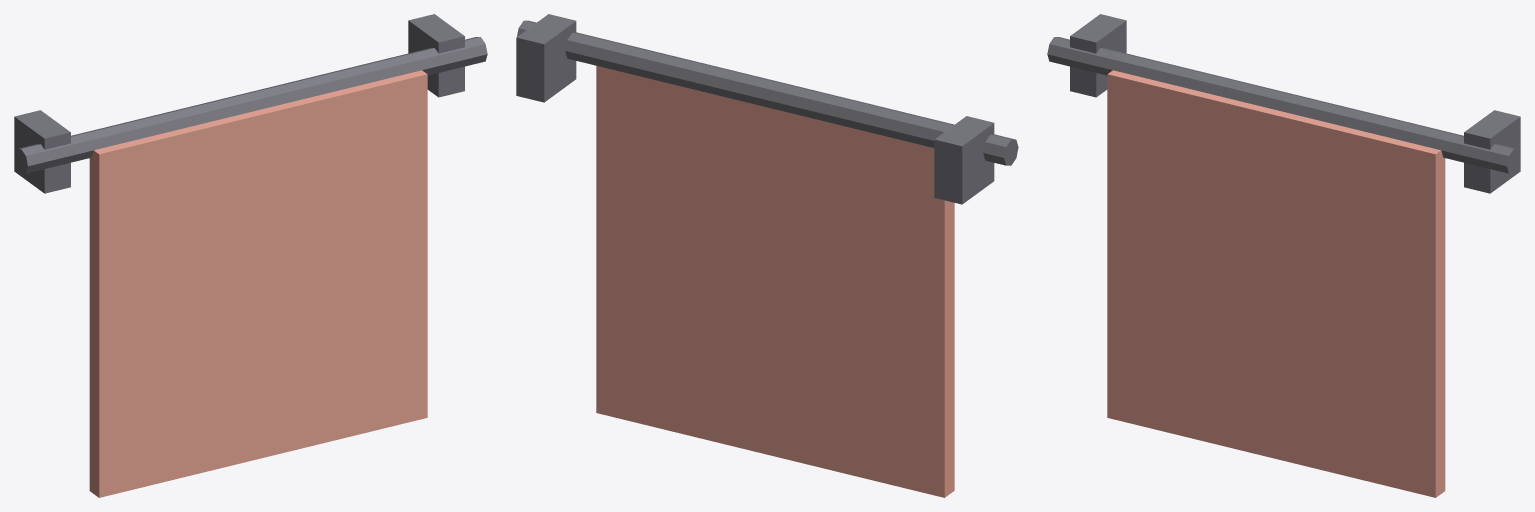
Rendered from cozy-home-interiors-towel-rail-c664907c.glb.
3 views of the same model, side by side, from view 1: azimuth 30°, elevation 25°; view 2: azimuth 150°, elevation 25°; view 3: azimuth 330°, elevation 25° (orthographic). The views are drawn at different scales.
Parts seen in each view (by area): view 1: towel-rail; view 2: towel-rail; view 3: towel-rail.
Part boxes in pixels (box(x1,y1,x2,y2)): towel-rail: box(14, 14, 487, 497); towel-rail: box(516, 14, 1018, 497); towel-rail: box(1047, 14, 1520, 497).
Bounding box in the file's own units: 0.7 × 0.53 × 0.1025.
